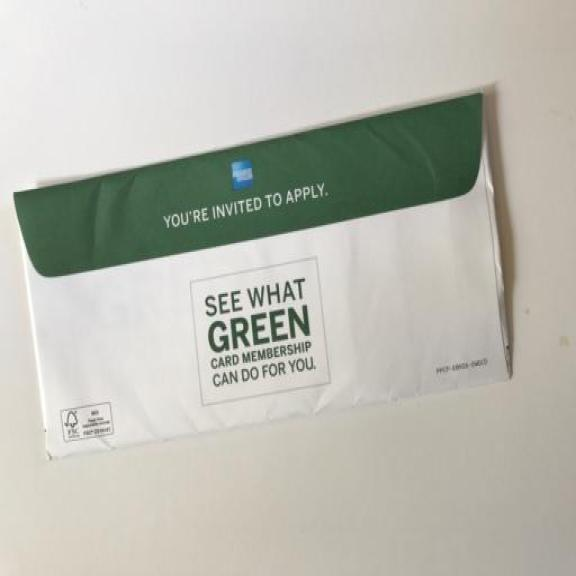Kertas: (0, 73, 524, 446)
